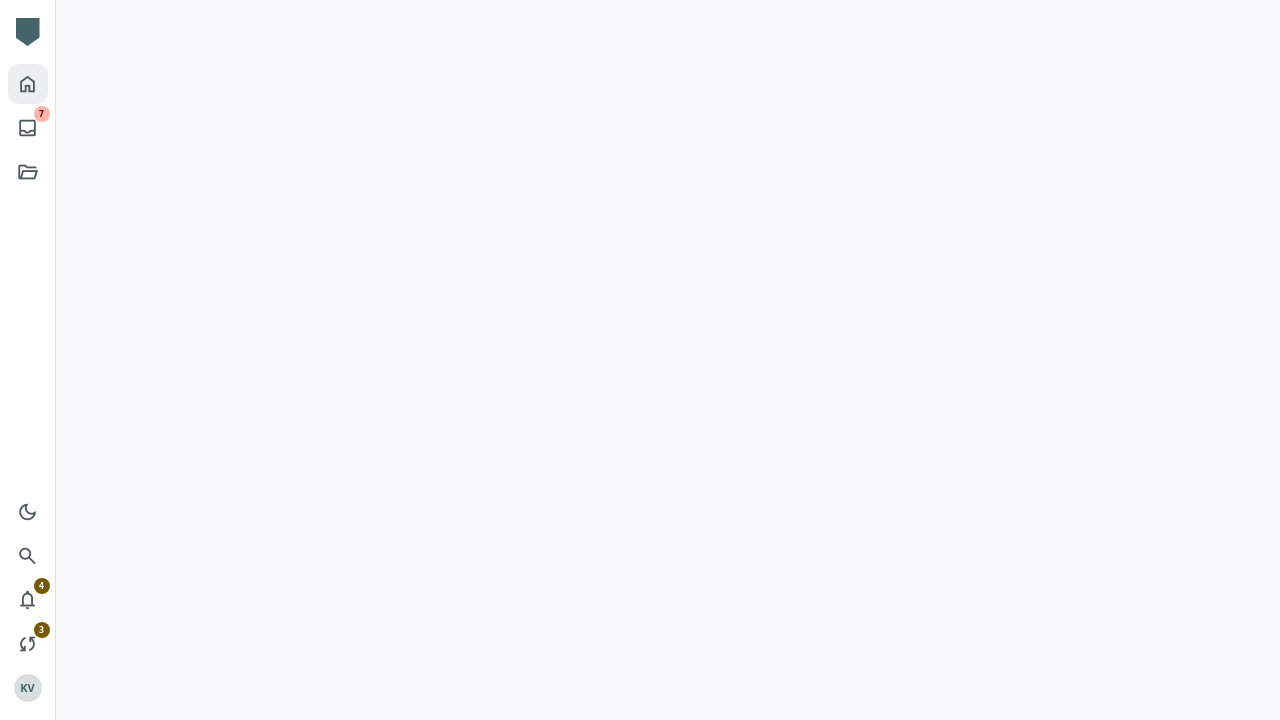
⌘K opens the palette and search results navigate
This screenshot has width=1280, height=720.
Type keys "{Meta>}k{/Meta}"
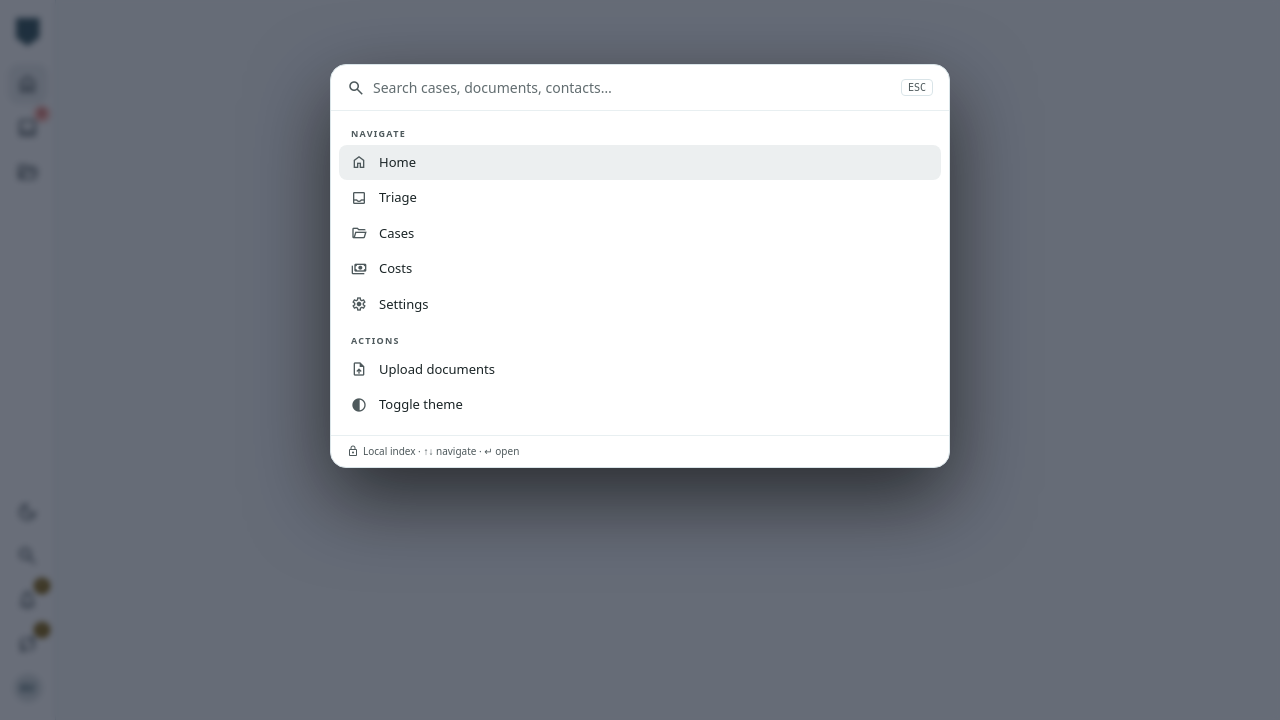
In the field labelled "Search": [633, 88] box [373,77,893,98], type "Klage"
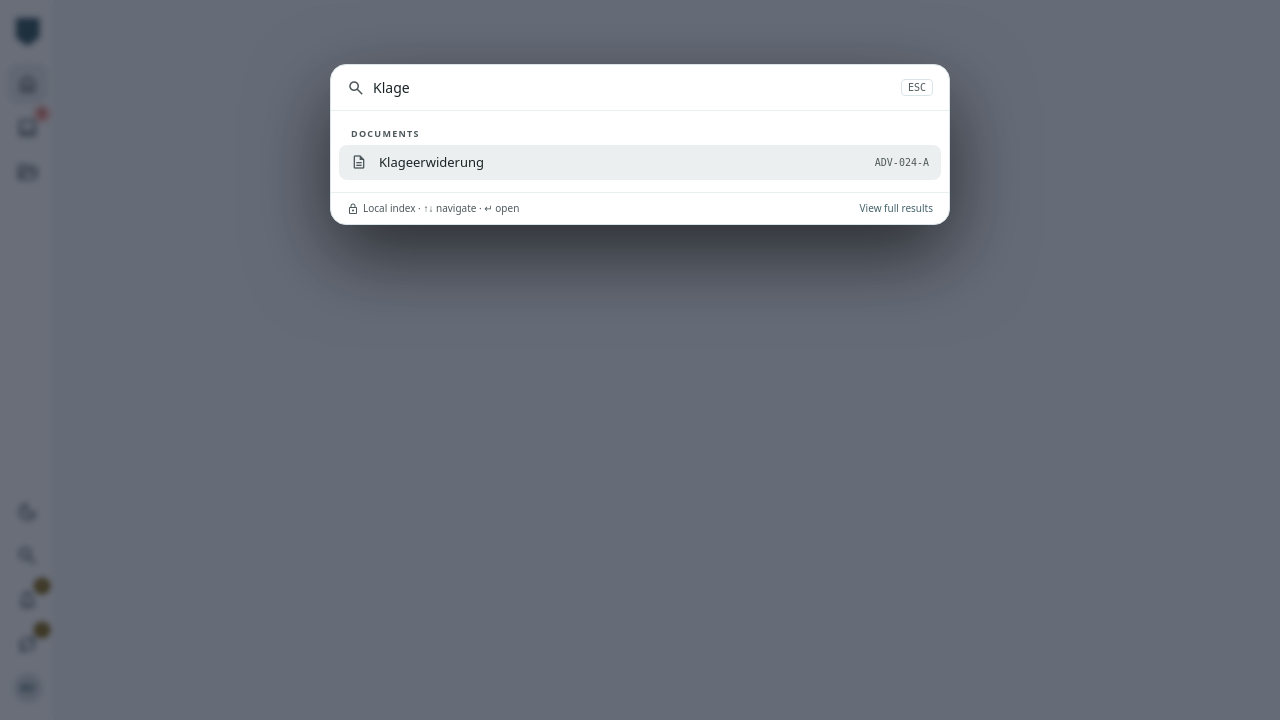
Click the button "Klageerwiderung ADV-024-A": [432, 162] box [339,144,941,180]
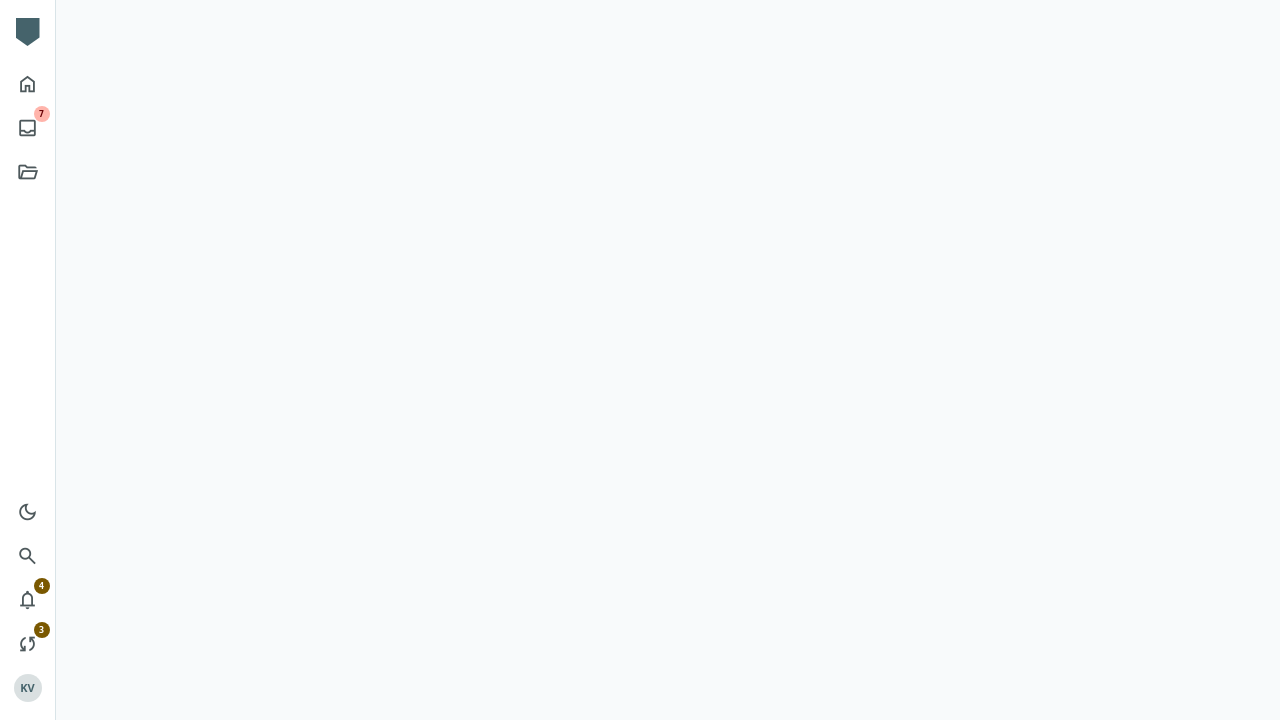
Expected: the dialog is gone
Type keys "{Meta>}k{/Meta}"
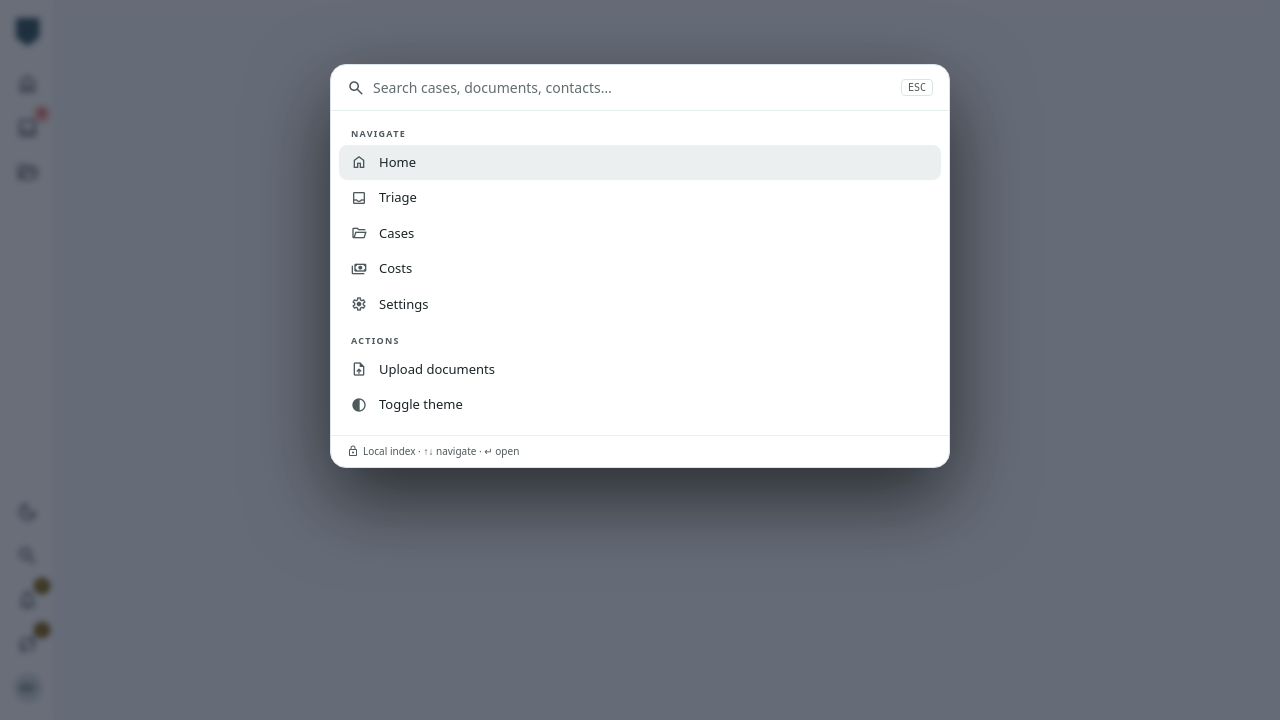
Expected: the dialog is shown, [330,64,950,468]
Press Escape
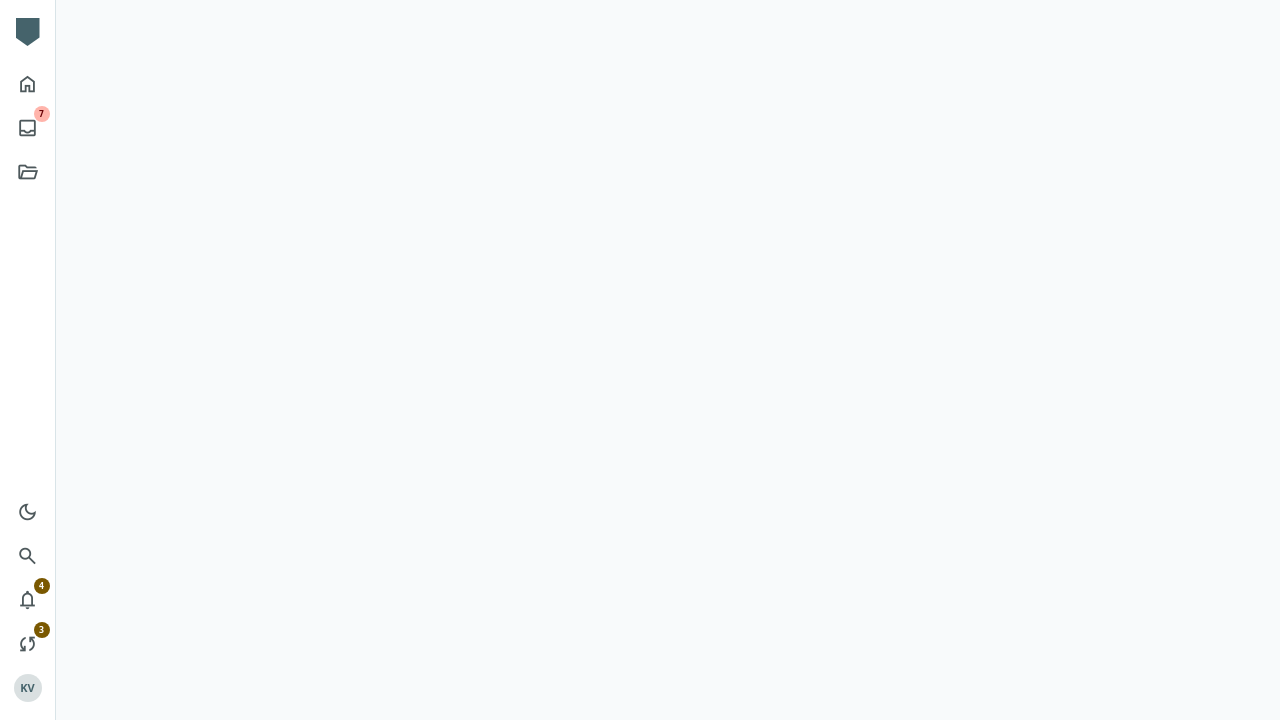
Expected: the dialog is gone
